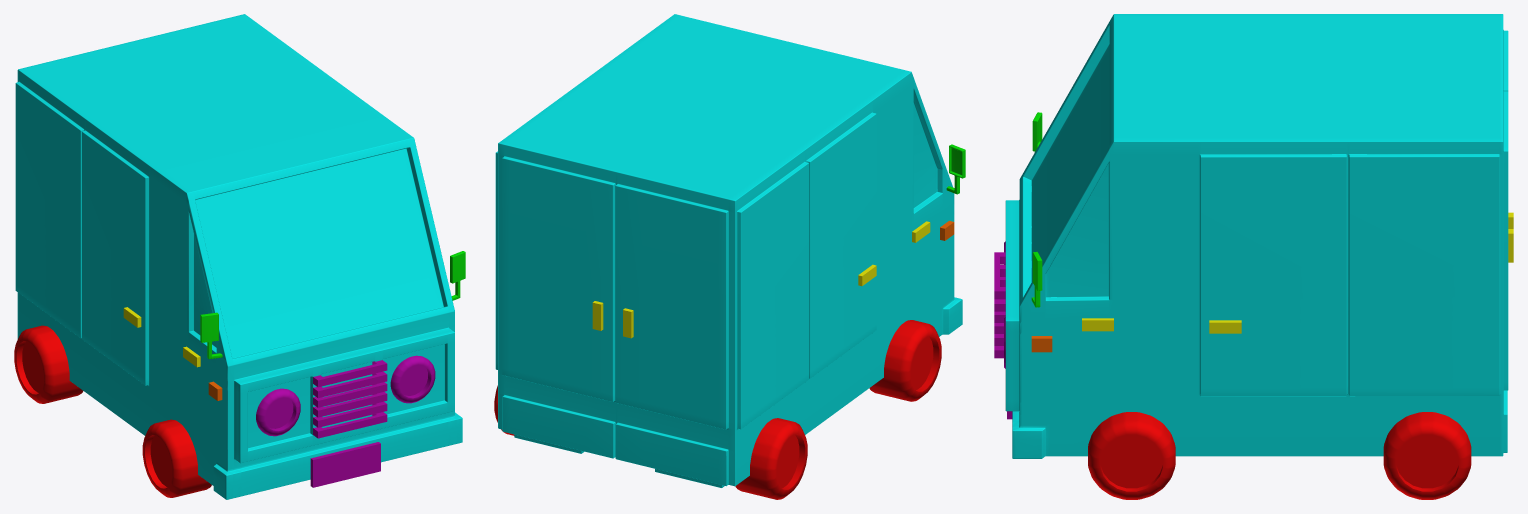
File: van_furniture.fbx
3 views of the same model, side by side, from view 1: azimuth 30°, elevation 25°; view 2: azimuth 150°, elevation 25°; view 3: azimuth 270°, elevation 25° (orthographic). The views are drawn at different scales.
Parts seen in each view (by area): view 1: cat_van; view 2: cat_van; view 3: cat_van.
Boxes of the visible parts, x1=… form: cat_van: x1=14, y1=14, x2=465, y2=499; cat_van: x1=494, y1=14, x2=965, y2=499; cat_van: x1=994, y1=14, x2=1513, y2=499.
Size of the model in its own units: 236 by 255 by 343.
